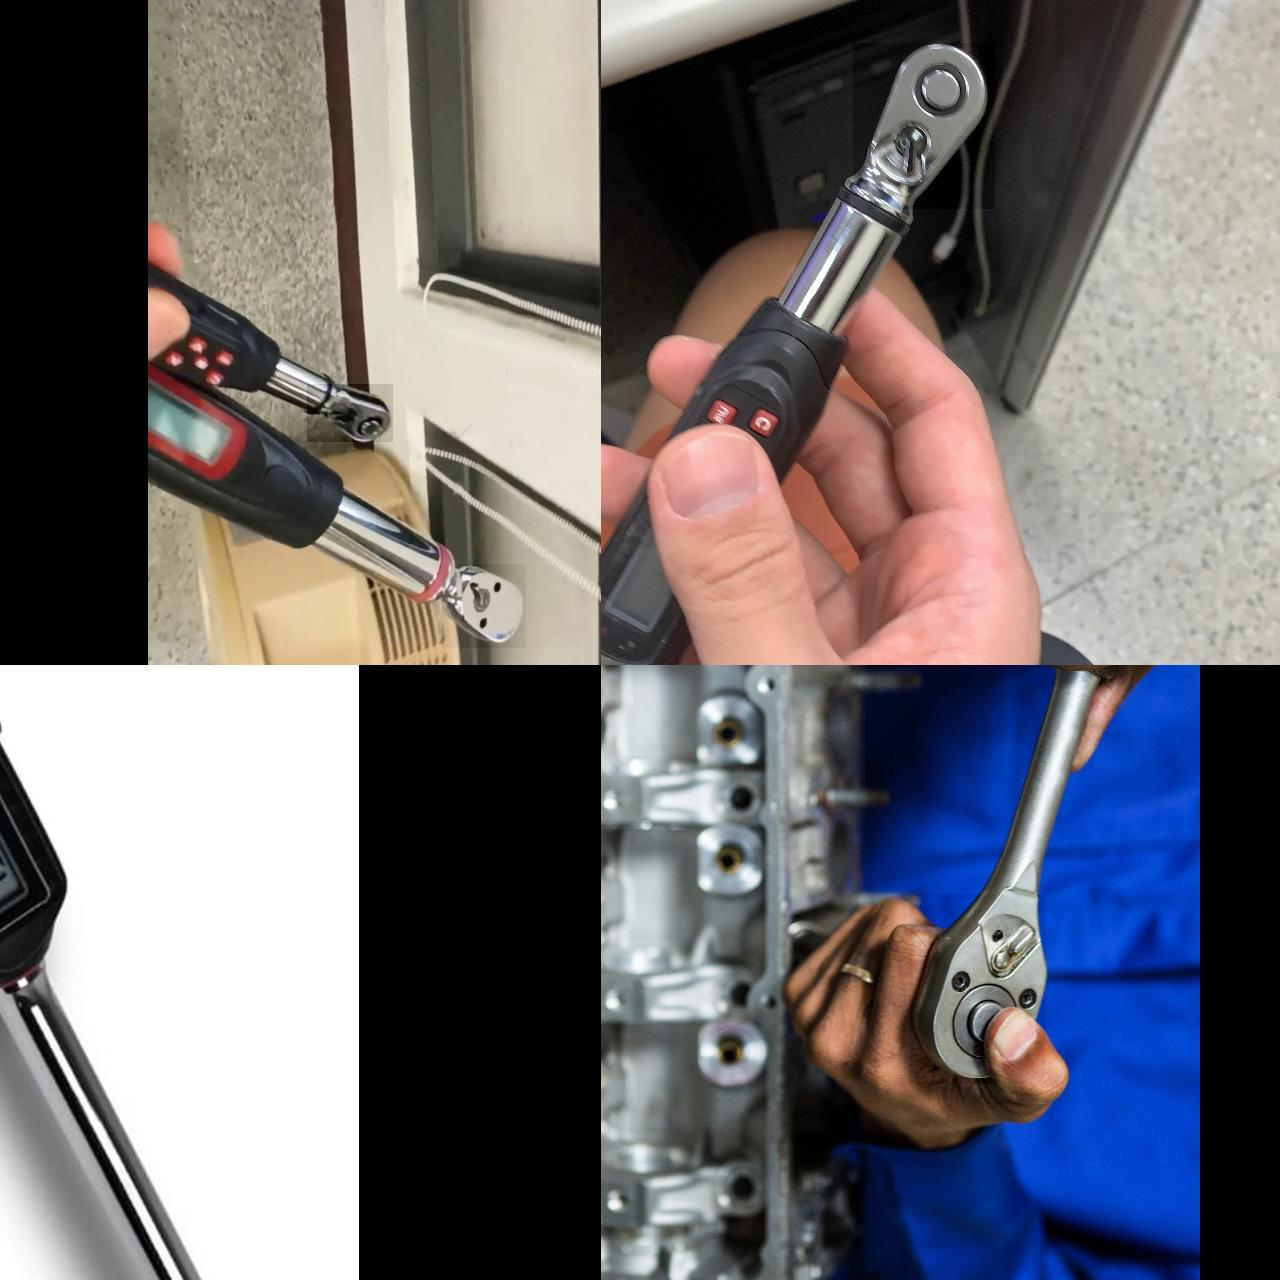Tool: (910, 893, 1046, 1083), (852, 43, 994, 209), (441, 564, 525, 648), (306, 384, 392, 442)
